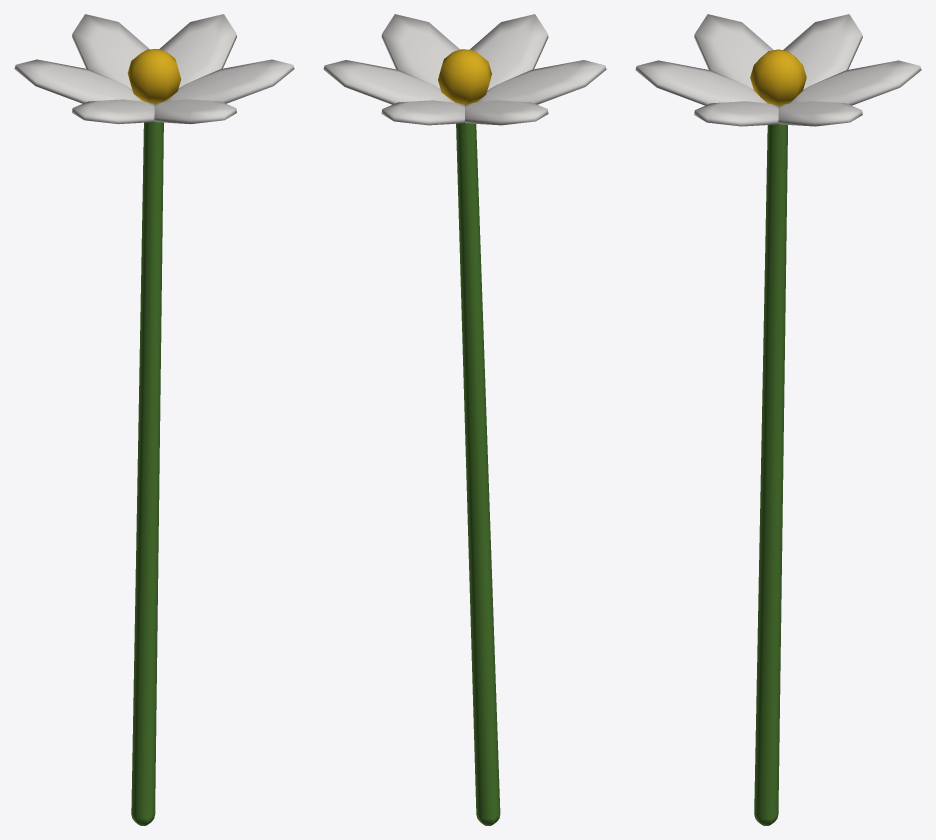
Rendered from FlowerWhite.glb.
3 renders of one model, left to right at view 1: azimuth 30°, elevation 25°; view 2: azimuth 150°, elevation 25°; view 3: azimuth 270°, elevation 25°, orthographic. The views are drawn at different scales.
Parts seen in each view (by area): view 1: Petals, Stem, Center; view 2: Petals, Stem, Center; view 3: Petals, Stem, Center.
Boxes of the visible parts, x1,y1,x2,y2 form: Petals: (14, 14, 294, 124); Stem: (131, 121, 163, 825); Center: (127, 49, 181, 103); Petals: (323, 14, 606, 125); Stem: (456, 123, 500, 825); Center: (438, 49, 491, 104); Petals: (635, 14, 921, 126); Stem: (754, 124, 787, 825); Center: (750, 49, 806, 105).
Bounding box in the file's own units: 0.0612 × 0.213 × 0.0707.
